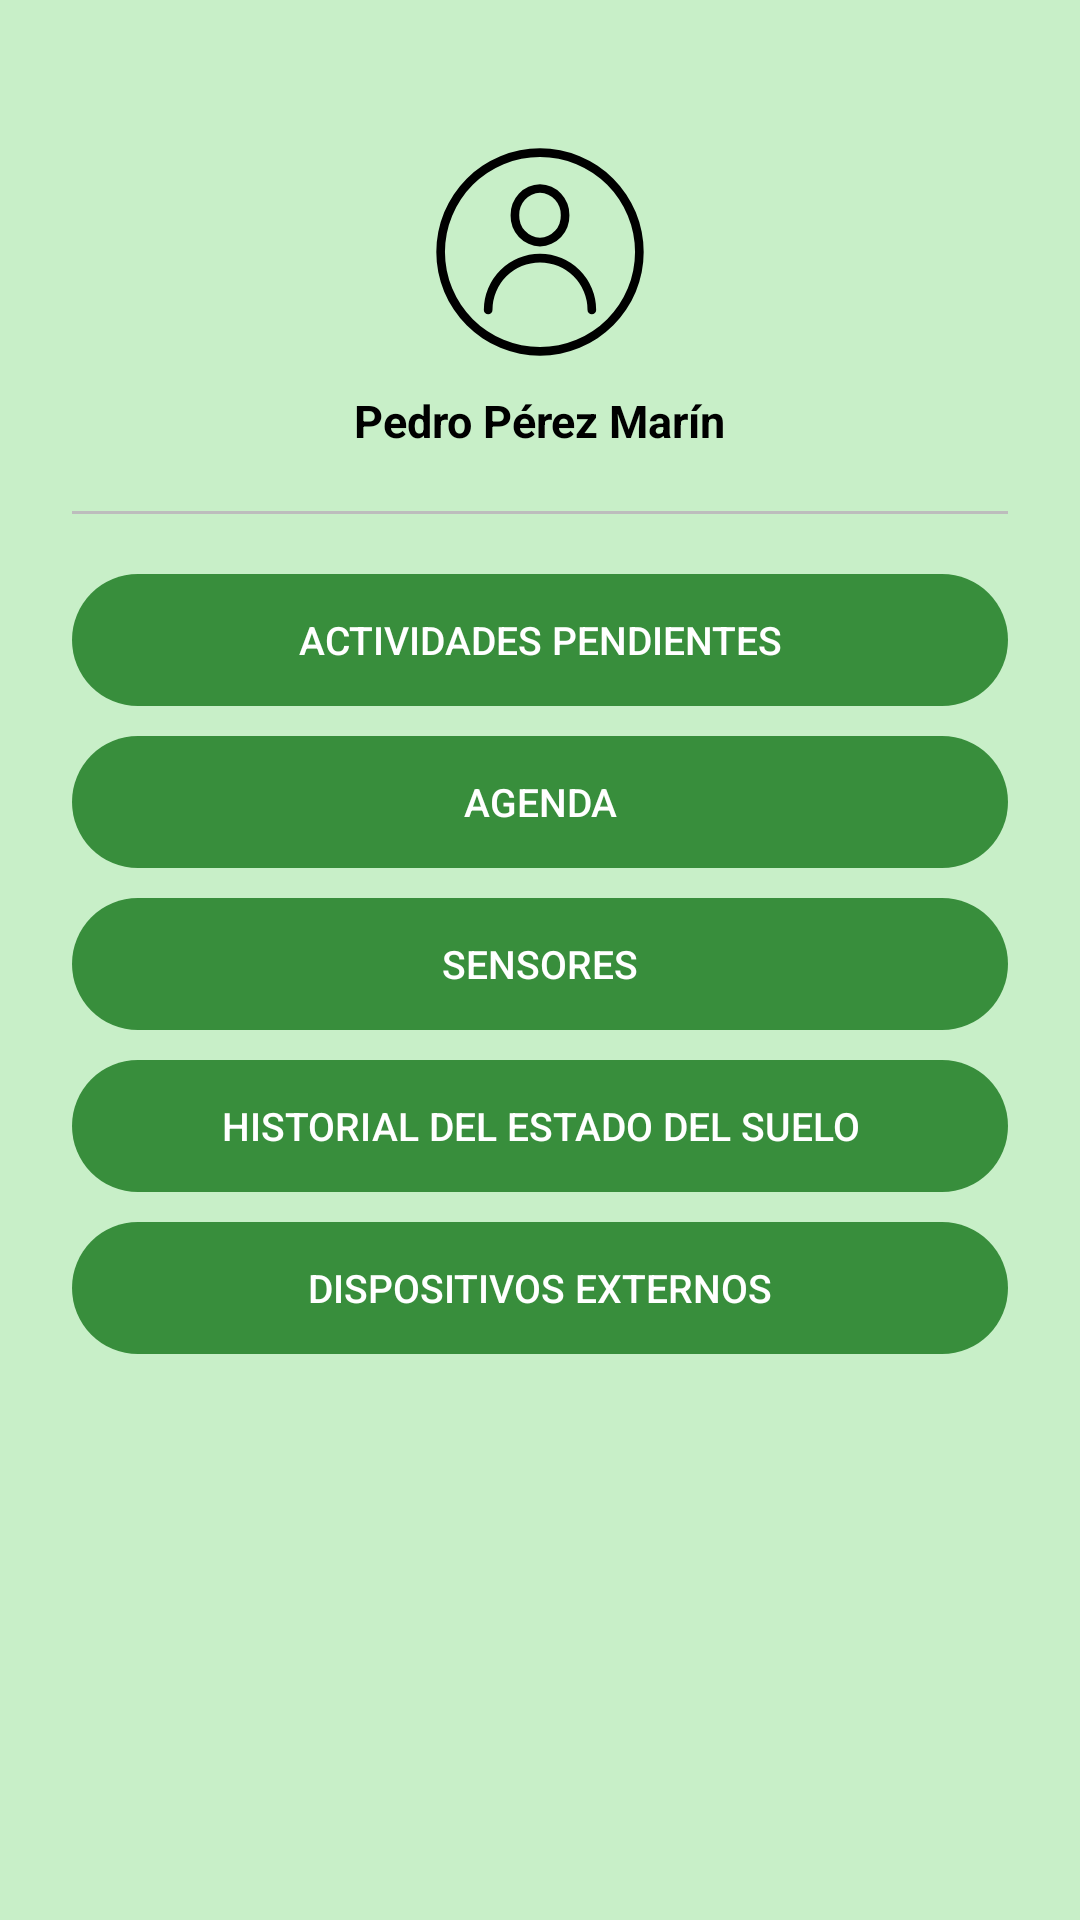

Point at icon controls on the screen. Image size 1080×1920, points as [x,y].
Usuario: [540,252]
